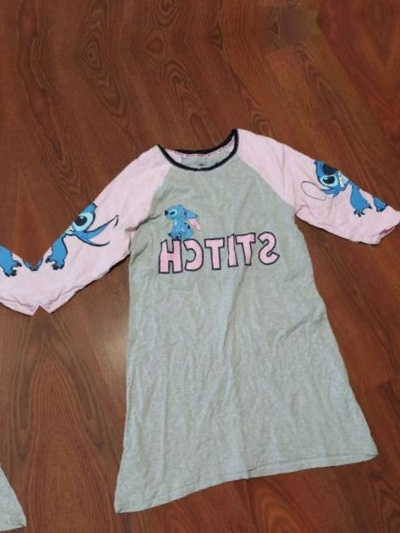Dress: (23, 98, 400, 532), (0, 152, 66, 533)
